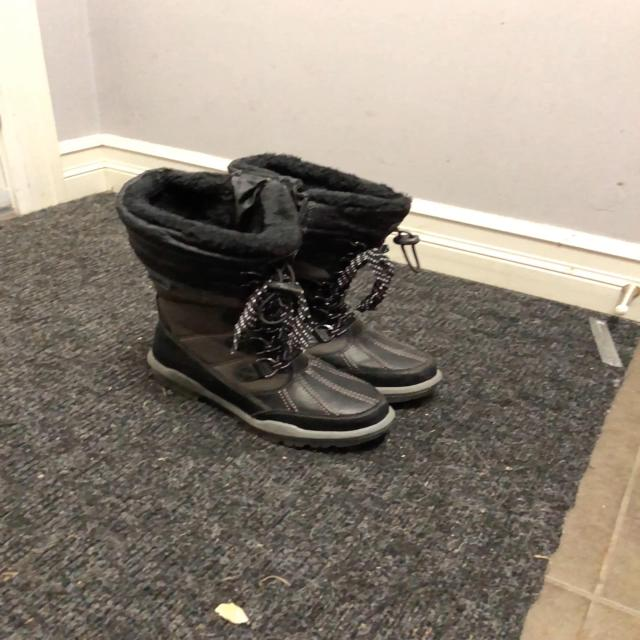shoe: (142, 282, 398, 440)
